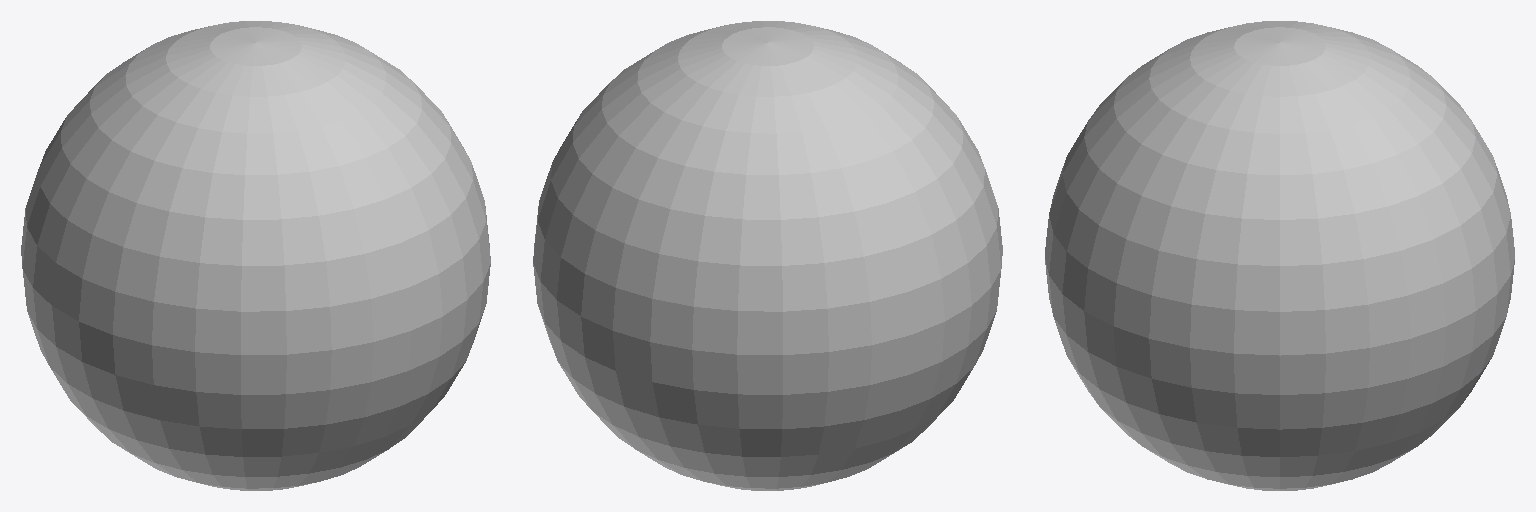
File: Ball.obj
3 renders of one model, left to right at view 1: azimuth 30°, elevation 25°; view 2: azimuth 150°, elevation 25°; view 3: azimuth 270°, elevation 25°, orthographic.
Visible parts, largest first — view 1: Sphere; view 2: Sphere; view 3: Sphere.
Boxes of the visible parts, <box> form: Sphere: <box>21,21,490,490</box>; Sphere: <box>533,21,1002,490</box>; Sphere: <box>1045,21,1514,490</box>.
Size of the model in its own units: 0.413 by 0.413 by 0.413.